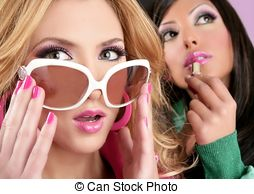face: (3, 1, 139, 167), (157, 1, 247, 98)
